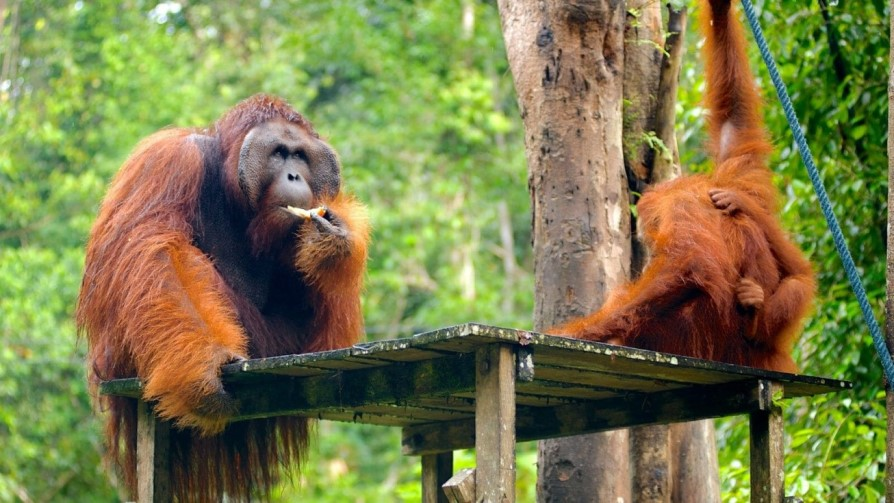Orangutan: (77, 81, 362, 423), (620, 166, 816, 376)
